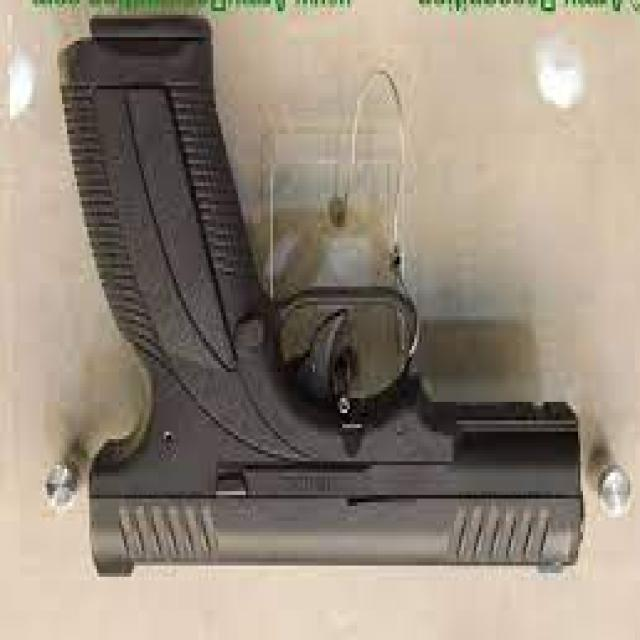Gun: (15, 0, 605, 603)
